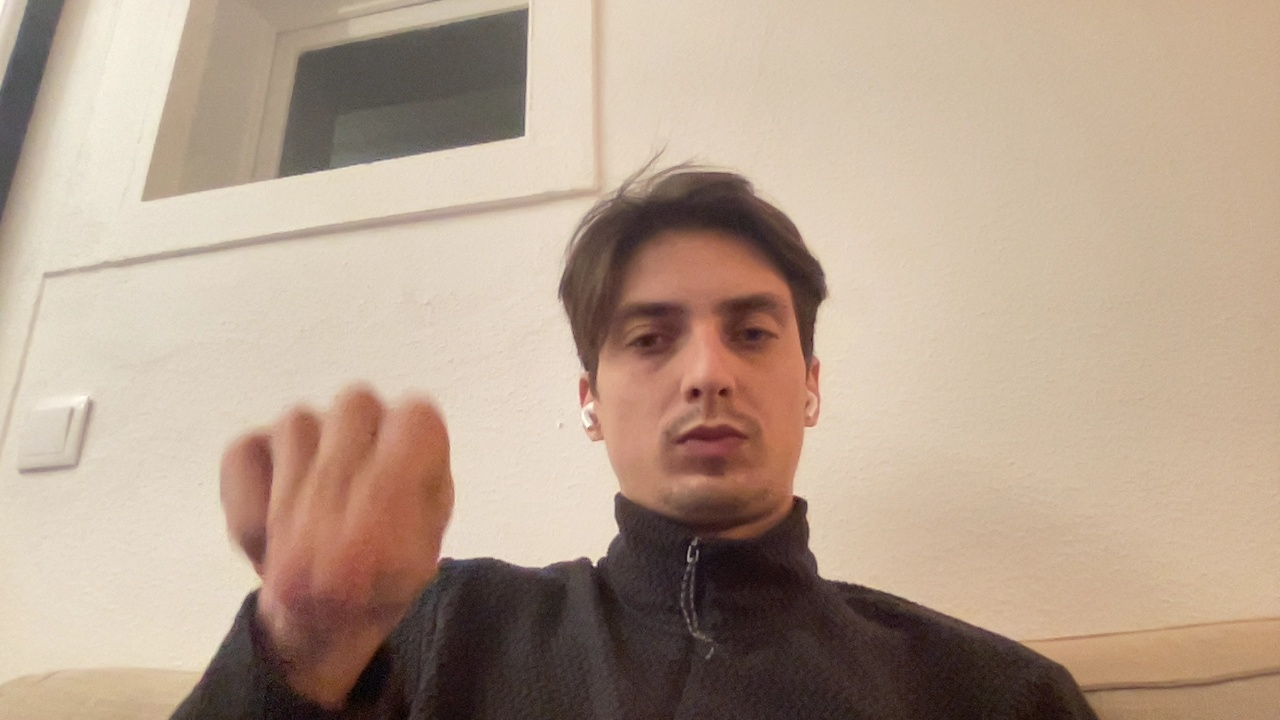no: (174, 367, 503, 656)
